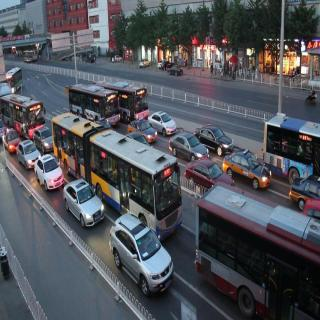BigCar: (193, 185, 320, 320), (50, 112, 182, 236), (264, 110, 320, 188), (63, 80, 122, 126), (1, 94, 47, 138)
Car: (108, 215, 173, 296), (63, 176, 106, 229), (225, 144, 272, 192), (185, 158, 234, 201), (193, 121, 234, 152), (32, 153, 63, 193), (170, 133, 209, 162), (129, 118, 156, 144), (17, 141, 40, 170), (149, 111, 178, 134), (33, 128, 54, 152), (2, 130, 20, 153), (168, 64, 184, 78), (138, 57, 150, 70), (84, 53, 96, 66), (112, 53, 124, 64)
